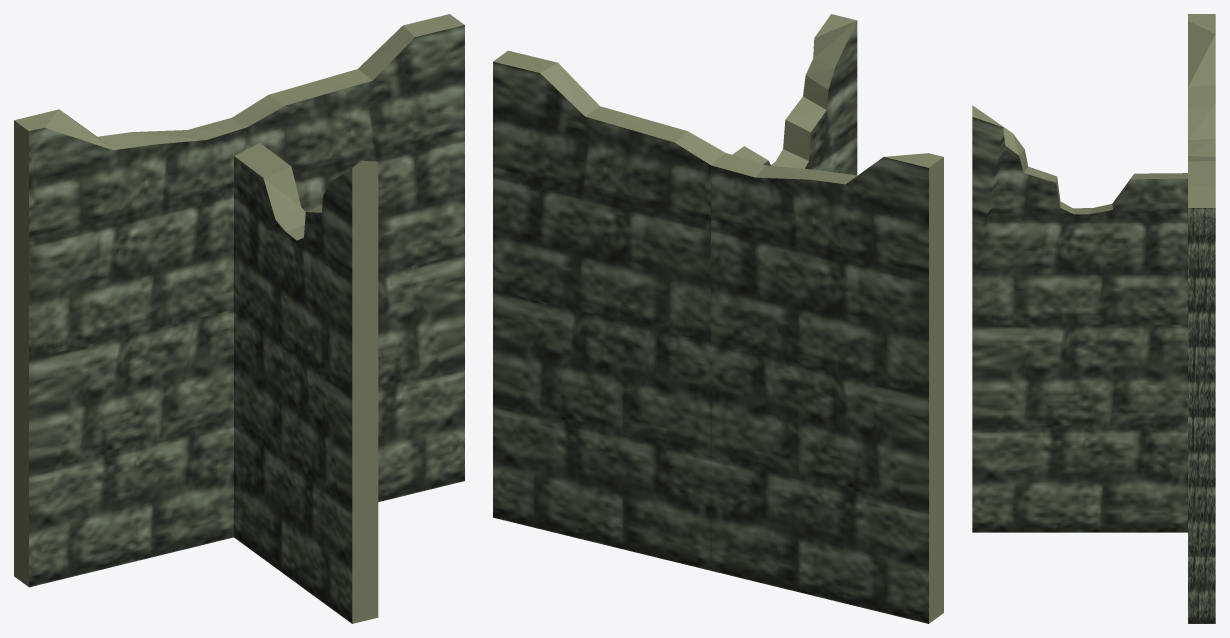
The model's file is ruins_grid_83_1.glb.
3 views of the same model, side by side, from view 1: azimuth 30°, elevation 25°; view 2: azimuth 150°, elevation 25°; view 3: azimuth 270°, elevation 25° (orthographic). The views are drawn at different scales.
Visible parts, largest first — view 1: ruins_grid_83_1; view 2: ruins_grid_83_1; view 3: ruins_grid_83_1.
Boxes of the visible parts, x1,y1,x2,y2 form: ruins_grid_83_1: (14, 14, 464, 623); ruins_grid_83_1: (493, 14, 943, 623); ruins_grid_83_1: (972, 14, 1215, 623).
Bounding box in the file's own units: 4 × 4 × 2.12.
Materials: 2 (1 with a texture image).
